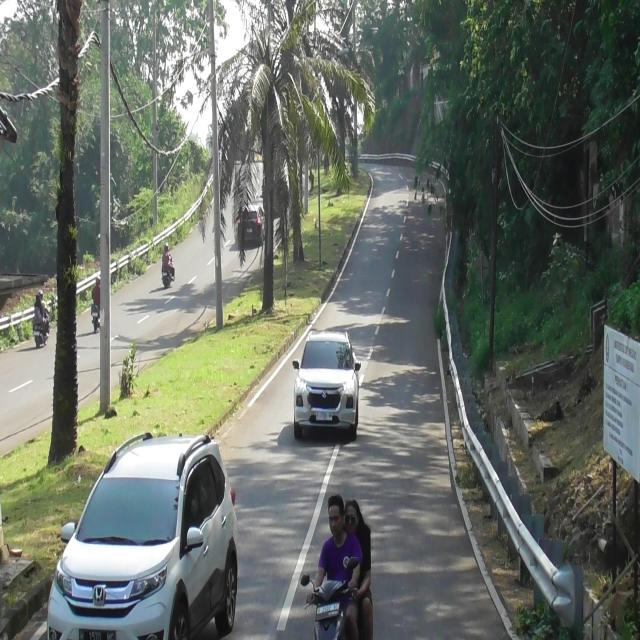motorcycle: (302, 554, 356, 640), (33, 320, 45, 349), (91, 303, 101, 332), (161, 265, 170, 290)
person: (307, 495, 358, 640), (344, 495, 374, 640), (38, 290, 49, 320), (92, 275, 101, 306), (33, 295, 42, 324), (161, 243, 171, 269)
rider_region: (302, 496, 376, 632), (33, 289, 51, 348), (90, 274, 102, 333), (160, 242, 174, 290)
